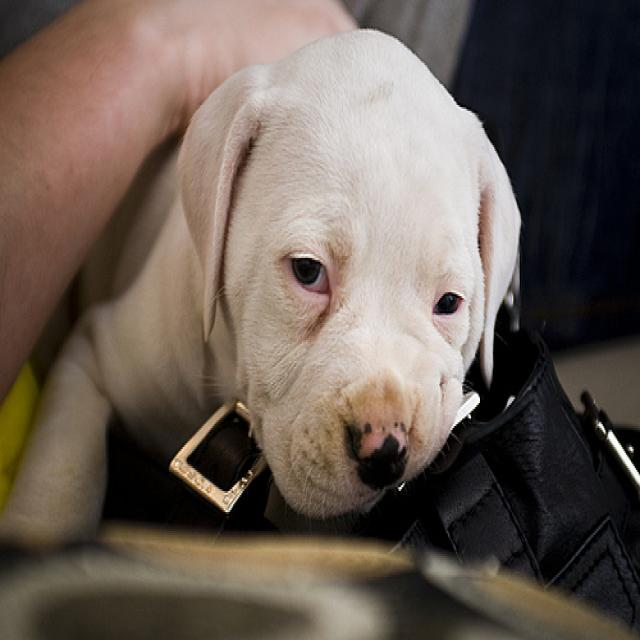dog-american_bulldog: (1, 11, 526, 548)
